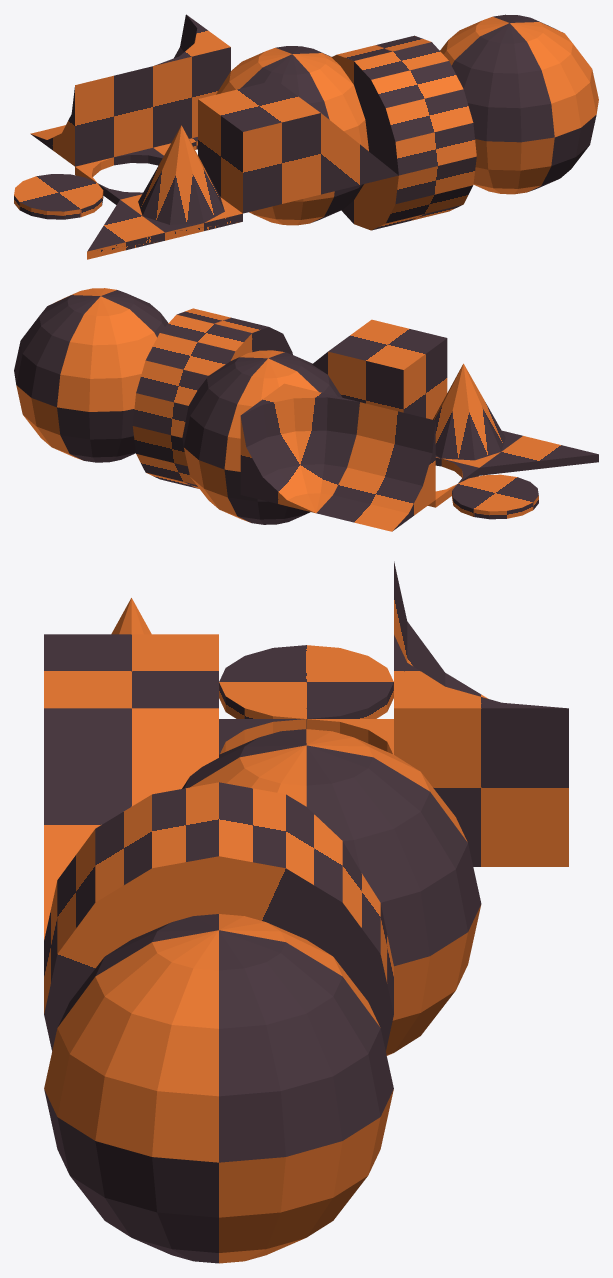
Rendered from world-v3.glb.
The picture shows the model from 3 angles, top to bottom: view 1: azimuth 30°, elevation 25°; view 2: azimuth 150°, elevation 25°; view 3: azimuth 270°, elevation 25°; orthographic projection. The views are drawn at different scales.
Parts seen in each view (by area): view 1: Cylinder, Cylinder.001, 1x1, Sphere, ramp-r, ramp-r-corner, Cone, Cylinder.002, ramp, floor.001, floor.003, floor.002; view 2: Cylinder, ramp-r-corner, Cylinder.001, Sphere, ramp-r, 1x1, Cone, Cylinder.002, floor.001, floor.003, floor.002; view 3: Cylinder, Cylinder.001, Sphere, ramp-r-corner, ramp, 1x1, Cylinder.002, floor.003, ramp-r.
Boxes of the visible parts, bbox=[...] form: Cylinder: bbox=[440, 14, 598, 194]; Cylinder.001: bbox=[331, 35, 476, 230]; 1x1: bbox=[198, 80, 320, 213]; Sphere: bbox=[216, 46, 368, 225]; ramp-r: bbox=[30, 66, 152, 166]; ramp-r-corner: bbox=[153, 14, 230, 147]; Cone: bbox=[138, 125, 224, 224]; Cylinder.002: bbox=[14, 174, 103, 219]; ramp: bbox=[321, 113, 398, 194]; floor.001: bbox=[87, 200, 164, 259]; floor.003: bbox=[75, 148, 163, 204]; floor.002: bbox=[120, 194, 242, 240]; Cylinder: bbox=[14, 288, 168, 462]; ramp-r-corner: bbox=[240, 383, 359, 513]; Cylinder.001: bbox=[132, 308, 292, 488]; Sphere: bbox=[182, 350, 342, 524]; ramp-r: bbox=[316, 402, 435, 531]; 1x1: bbox=[328, 319, 447, 419]; Cone: bbox=[433, 363, 505, 460]; Cylinder.002: bbox=[452, 474, 538, 519]; floor.001: bbox=[479, 436, 598, 475]; floor.003: bbox=[428, 457, 479, 507]; floor.002: bbox=[435, 430, 522, 467]; Cylinder: bbox=[44, 914, 393, 1263]; Cylinder.001: bbox=[44, 782, 393, 1051]; Sphere: bbox=[182, 729, 481, 1055]; ramp-r-corner: bbox=[394, 635, 568, 866]; ramp: bbox=[44, 708, 218, 939]; 1x1: bbox=[44, 634, 218, 708]; Cylinder.002: bbox=[219, 645, 393, 718]; floor.003: bbox=[219, 719, 393, 754]; ramp-r: bbox=[394, 561, 487, 698].
Bounding box in the file's own units: 70 × 20 × 30.
Materials: 2 (2 with a texture image).
